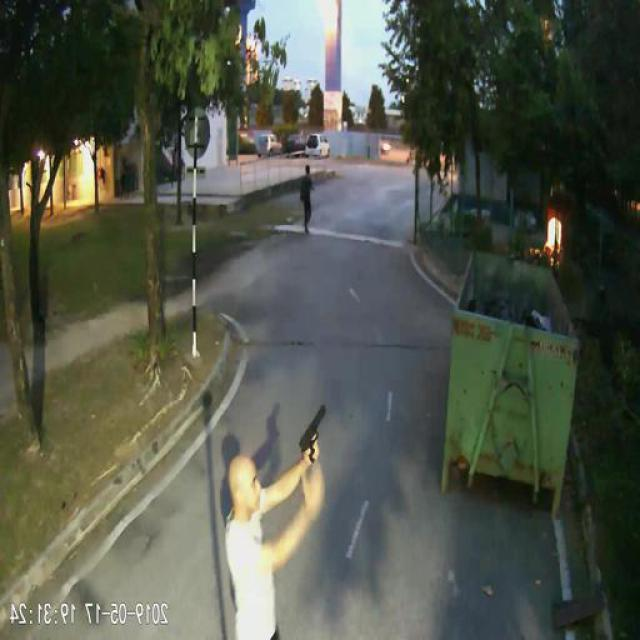Gun: (301, 402, 329, 466)
